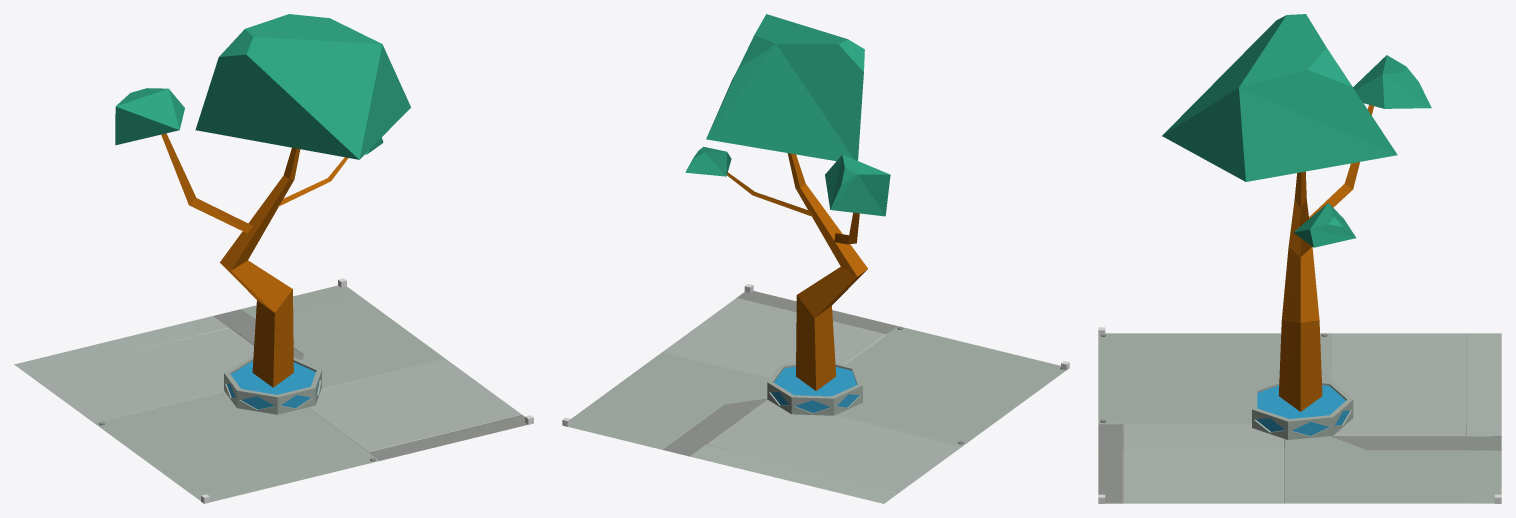
3 renders of one model, left to right at view 1: azimuth 30°, elevation 25°; view 2: azimuth 150°, elevation 25°; view 3: azimuth 270°, elevation 25°, orthographic. The views are drawn at different scales.
Parts seen in each view (by area): view 1: Scifi_Panel_04_Plaza014_group4.014_Scifi_Panel_04_Plaza014_g, Tree02, Cylinder.002_Cylinder.003; view 2: Scifi_Panel_04_Plaza014_group4.014_Scifi_Panel_04_Plaza014_g, Tree02, Cylinder.002_Cylinder.003; view 3: Scifi_Panel_04_Plaza014_group4.014_Scifi_Panel_04_Plaza014_g, Tree02, Cylinder.002_Cylinder.003.
Boxes of the visible parts, bbox=[...] form: Scifi_Panel_04_Plaza014_group4.014_Scifi_Panel_04_Plaza014_g: bbox=[14, 285, 527, 502]; Tree02: bbox=[115, 14, 410, 387]; Cylinder.002_Cylinder.003: bbox=[224, 357, 321, 414]; Scifi_Panel_04_Plaza014_group4.014_Scifi_Panel_04_Plaza014_g: bbox=[568, 291, 1065, 503]; Tree02: bbox=[685, 14, 890, 390]; Cylinder.002_Cylinder.003: bbox=[767, 362, 862, 415]; Scifi_Panel_04_Plaza014_group4.014_Scifi_Panel_04_Plaza014_g: bbox=[1098, 333, 1501, 503]; Tree02: bbox=[1162, 14, 1431, 411]; Cylinder.002_Cylinder.003: bbox=[1252, 381, 1353, 439].
Size of the model in its own units: 10 by 10.73 by 10.
